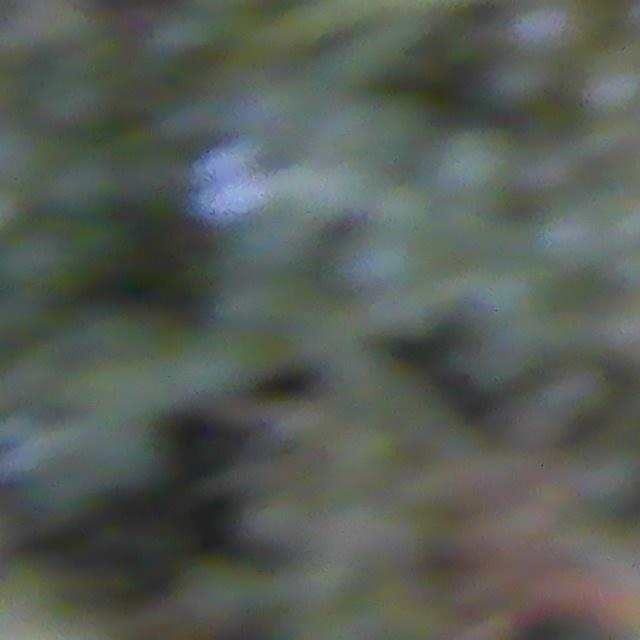SeaGrape: (435, 128, 512, 201), (346, 232, 415, 292)
